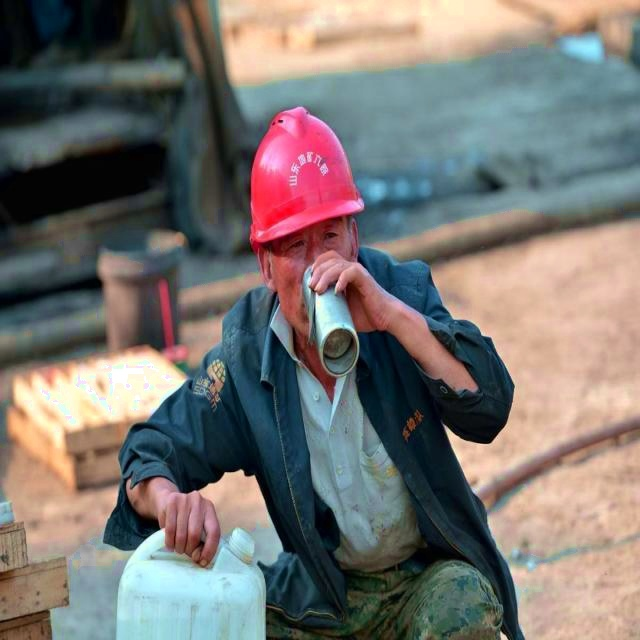Con_Casco: (250, 99, 357, 331)
